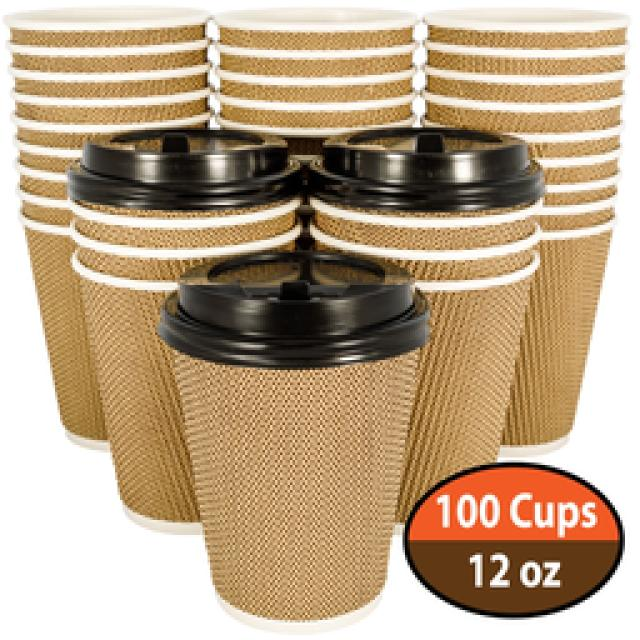paper_cups: (153, 249, 426, 633), (70, 252, 172, 534), (17, 206, 75, 447)
